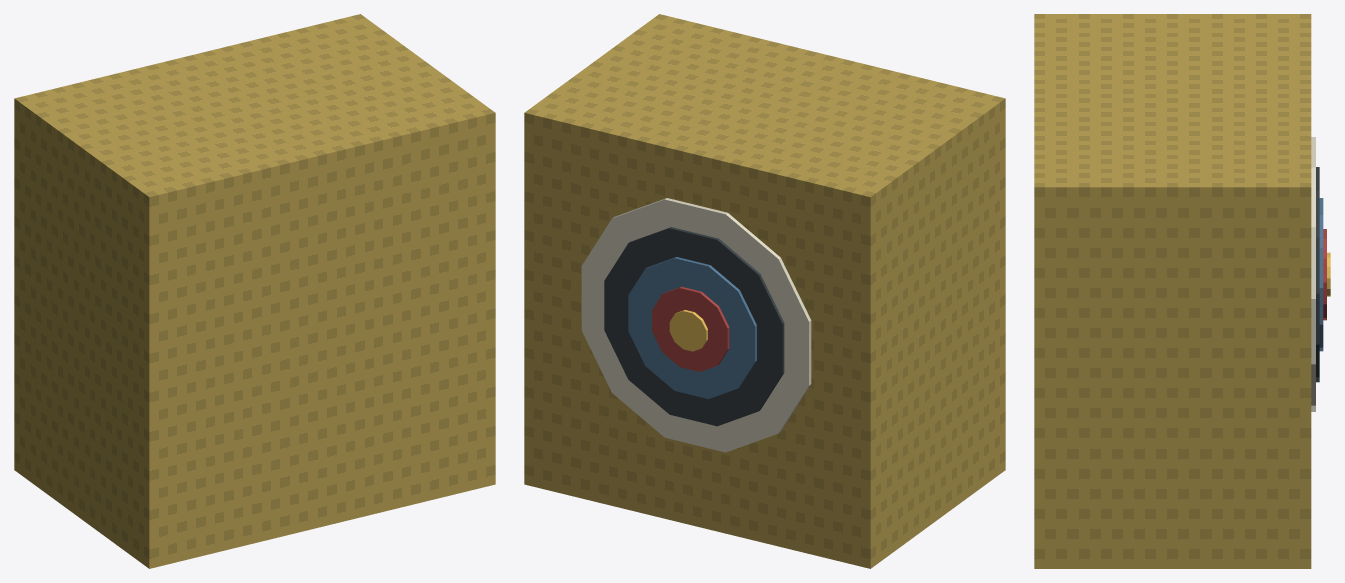
The model's file is f_archery_target_bale.glb.
3 views of the same model, side by side, from view 1: azimuth 30°, elevation 25°; view 2: azimuth 150°, elevation 25°; view 3: azimuth 270°, elevation 25° (orthographic). The views are drawn at different scales.
Parts seen in each view (by area): view 1: block_target-block; view 2: block_target-block, block_scoring-ring-0, block_scoring-ring-1, block_scoring-ring-2, block_scoring-ring-3, block_scoring-ring-4; view 3: block_target-block, block_scoring-ring-0, block_scoring-ring-1, block_scoring-ring-2.
Part boxes in pixels (x1=…): block_target-block: x1=14, y1=14, x2=495, y2=568; block_target-block: x1=524, y1=14, x2=1005, y2=568; block_scoring-ring-0: x1=581, y1=198, x2=811, y2=452; block_scoring-ring-1: x1=604, y1=227, x2=784, y2=426; block_scoring-ring-2: x1=628, y1=257, x2=756, y2=398; block_scoring-ring-3: x1=652, y1=286, x2=729, y2=371; block_scoring-ring-4: x1=669, y1=310, x2=707, y2=351; block_target-block: x1=1034, y1=14, x2=1311, y2=568; block_scoring-ring-0: x1=1311, y1=137, x2=1315, y2=411; block_scoring-ring-1: x1=1316, y1=167, x2=1319, y2=382; block_scoring-ring-2: x1=1319, y1=198, x2=1323, y2=351.
Bounding box in the file's own units: 0.77 × 0.79 × 0.5565.
Materials: 1 (1 with a texture image).
